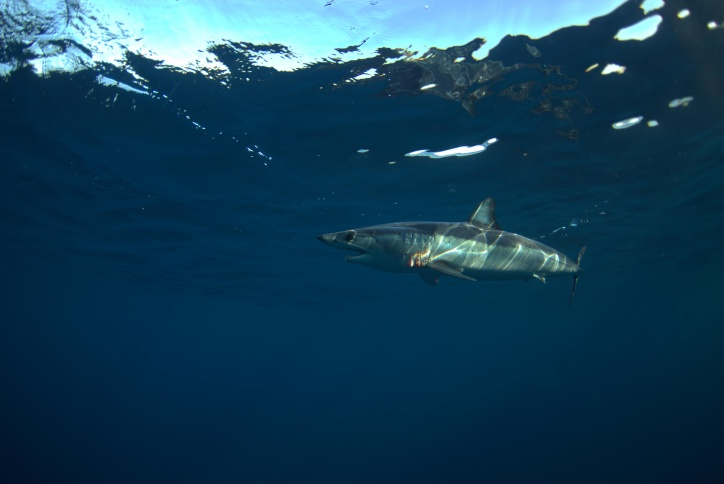Mako: (311, 190, 593, 309)
